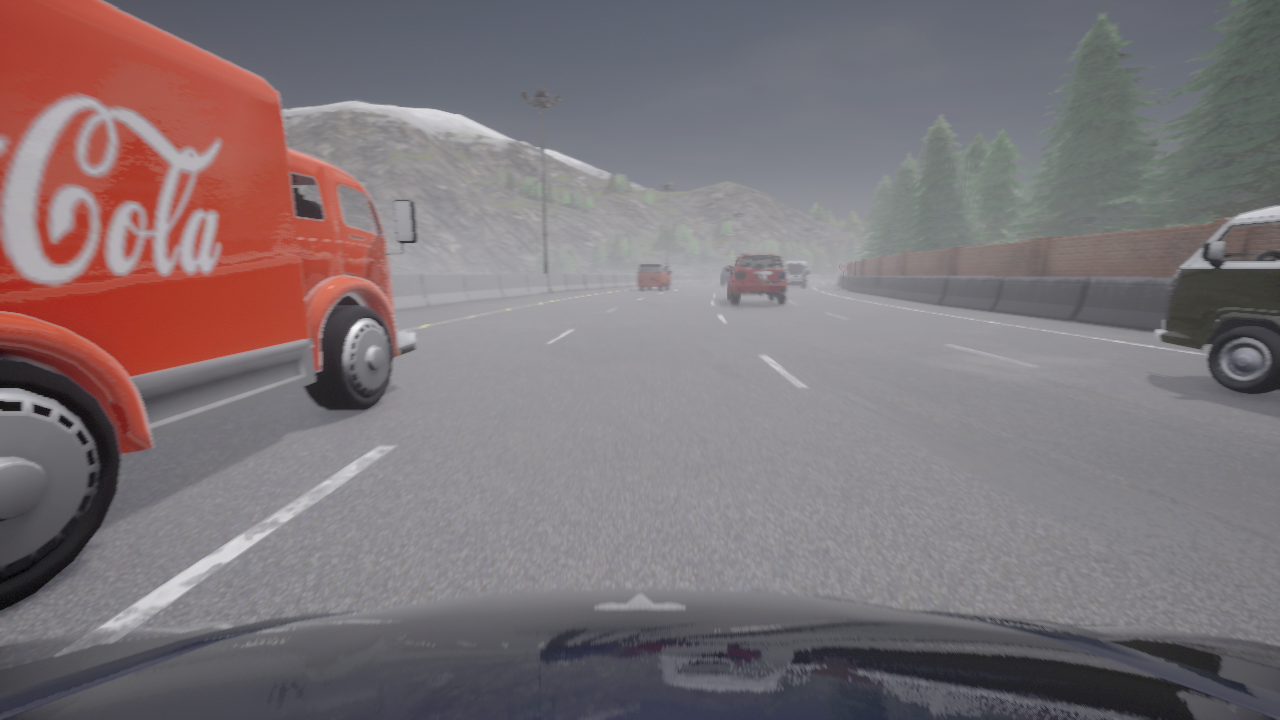cyclist: (0, 588, 1279, 719), (1156, 205, 1279, 393), (727, 253, 787, 304), (638, 263, 670, 289), (785, 260, 808, 286), (721, 267, 733, 284)
